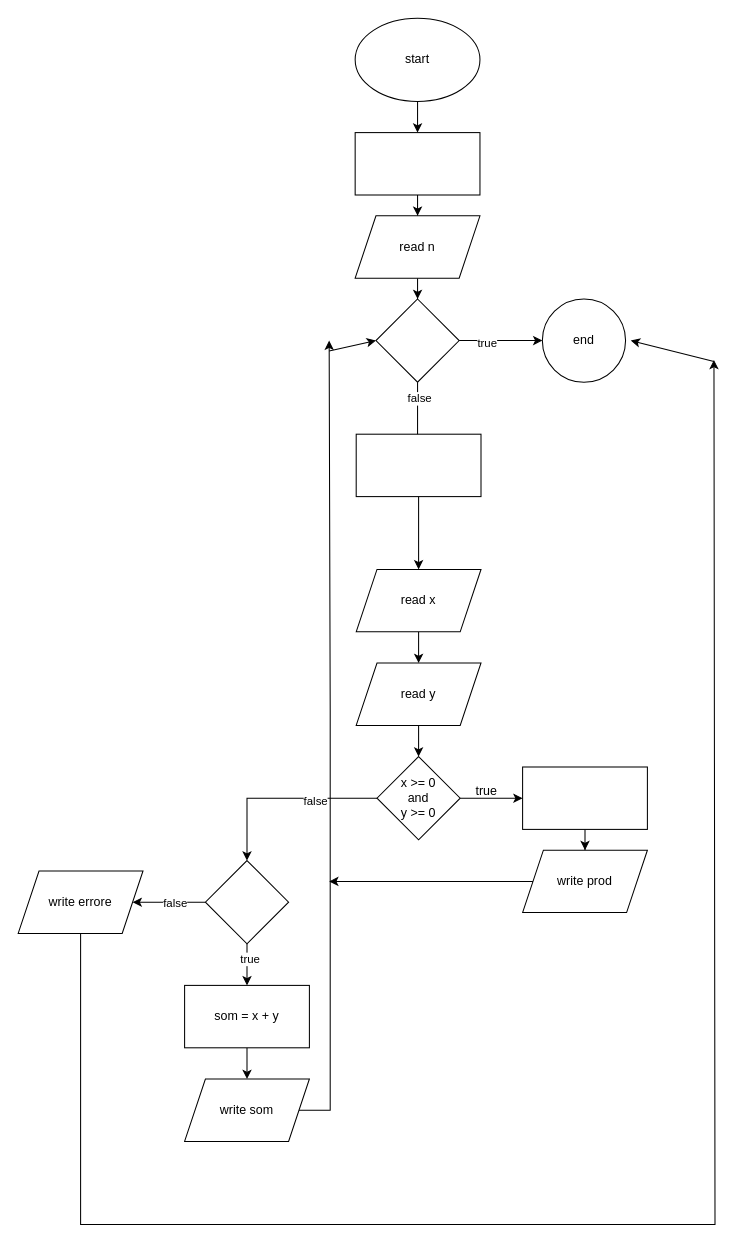
Image size: 742x1251. Some labels were removed from this diagram. The shapes that lost their labels are listed below. From the top down, each one's centre as x and y in pixels, then its label:
the point at 417,163: prod = 0 som = 0 cont = 0
the point at 417,340: cont == n
the point at 418,465: cont += 1
the point at 584,797: prod = x * y
the point at 246,902: x < 0 or y < 0
